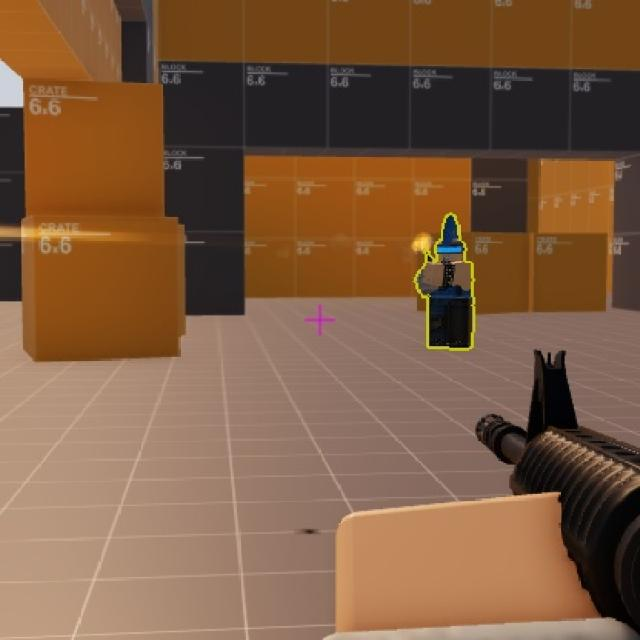player: (411, 210, 477, 338)
